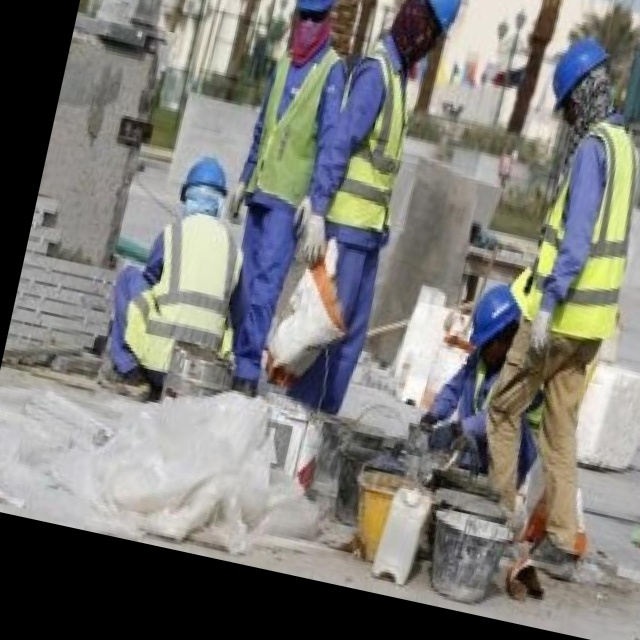Con_Chaleco: (523, 118, 640, 330), (316, 48, 429, 238), (138, 207, 252, 351)
